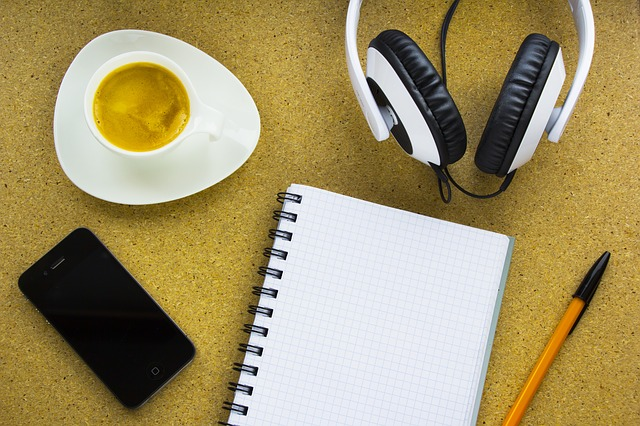headphones: (347, 1, 595, 175)
